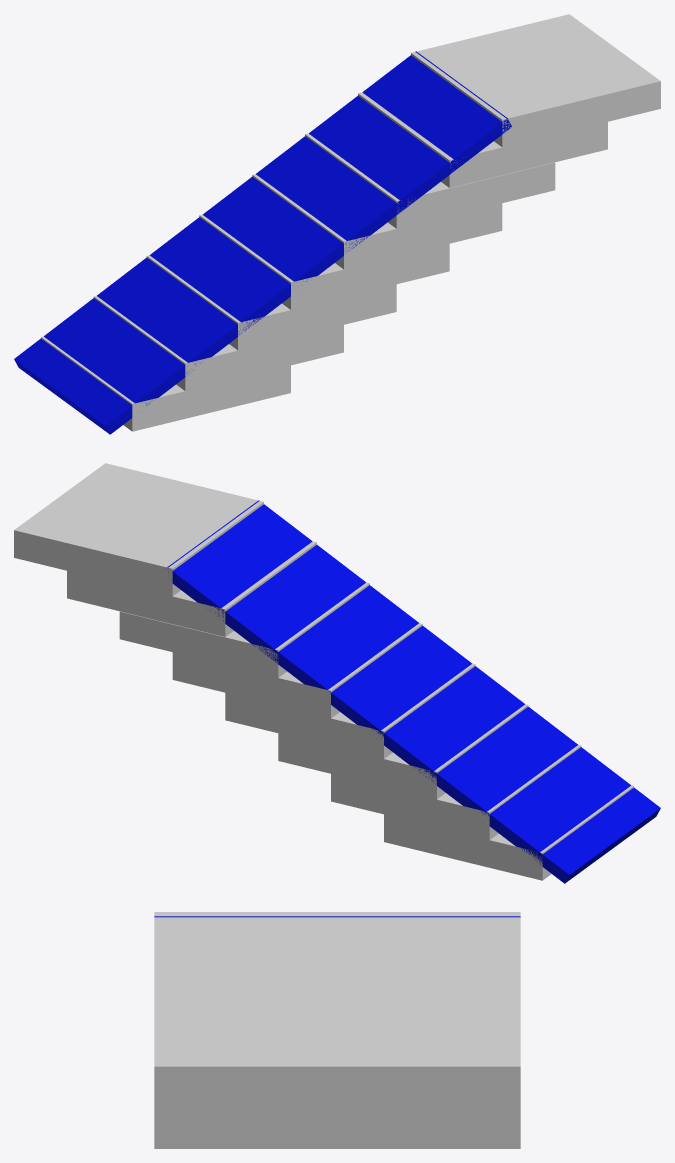
Rendered from stairs.fbx.
The picture shows the model from 3 angles, top to bottom: view 1: azimuth 30°, elevation 25°; view 2: azimuth 150°, elevation 25°; view 3: azimuth 270°, elevation 25°; orthographic projection. The views are drawn at different scales.
Parts seen in each view (by area): view 1: coll, 立方体.005, 立方体.001, 立方体.008, 立方体.002, 立方体.003, 立方体.004, 立方体.006, 立方体.007; view 2: coll, 立方体.005, 立方体.004, 立方体.007, 立方体.001, 立方体.008, 立方体.002, 立方体.003, 立方体.006; view 3: 立方体.005, 立方体.002, 立方体.003, 立方体.007, 立方体.001, 立方体.004, 立方体.006, 立方体.008, coll.
Boxes of the visible parts, x1,y1,x2,y2 form: coll: (14, 51, 511, 434); 立方体.005: (411, 14, 660, 147); 立方体.001: (252, 174, 502, 269); 立方体.008: (199, 214, 449, 309); 立方体.002: (146, 255, 396, 350); 立方体.003: (93, 296, 343, 390); 立方体.004: (358, 92, 607, 187); 立方体.006: (41, 336, 290, 431); 立方体.007: (305, 133, 555, 228); coll: (167, 500, 660, 883); 立方体.005: (14, 463, 263, 596); 立方体.004: (67, 541, 316, 636); 立方体.007: (119, 582, 369, 677); 立方体.001: (172, 623, 422, 718); 立方体.008: (225, 663, 475, 758); 立方体.002: (278, 704, 528, 799); 立方体.003: (331, 745, 581, 839); 立方体.006: (384, 785, 633, 880); 立方体.005: (154, 912, 520, 1121); 立方体.002: (154, 1137, 520, 1141); 立方体.003: (154, 1141, 520, 1145); 立方体.007: (154, 1126, 520, 1130); 立方体.001: (154, 1130, 520, 1133); 立方体.004: (154, 1122, 520, 1125); 立方体.006: (154, 1145, 520, 1148); 立方体.008: (154, 1134, 520, 1137); coll: (154, 916, 520, 917).
Bounding box in the file's own units: 2102 × 803 × 600.
